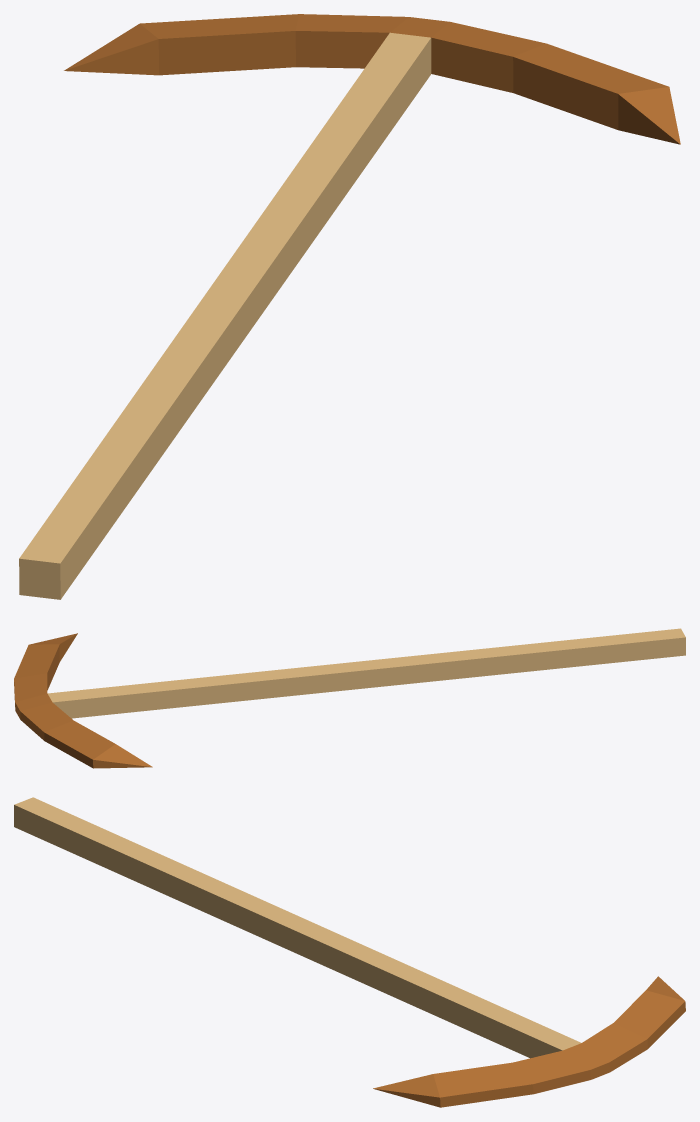
Rendered from copper_pickaxe.glb.
The picture shows the model from 3 angles, top to bottom: view 1: azimuth 30°, elevation 25°; view 2: azimuth 150°, elevation 25°; view 3: azimuth 270°, elevation 25°; orthographic projection. The views are drawn at different scales.
Parts seen in each view (by area): view 1: copper_pickaxe; view 2: copper_pickaxe; view 3: copper_pickaxe.
Boxes of the visible parts, bbox=[...] form: copper_pickaxe: bbox=[19, 14, 680, 599]; copper_pickaxe: bbox=[14, 628, 685, 768]; copper_pickaxe: bbox=[14, 797, 685, 1107].
Bounding box in the file's own units: 0.7914 × 0.0304 × 0.7657.
